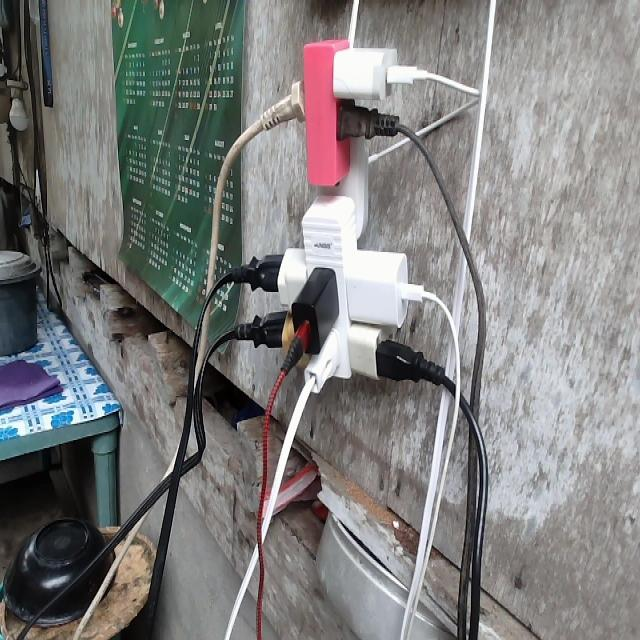-: (228, 32, 469, 423)
